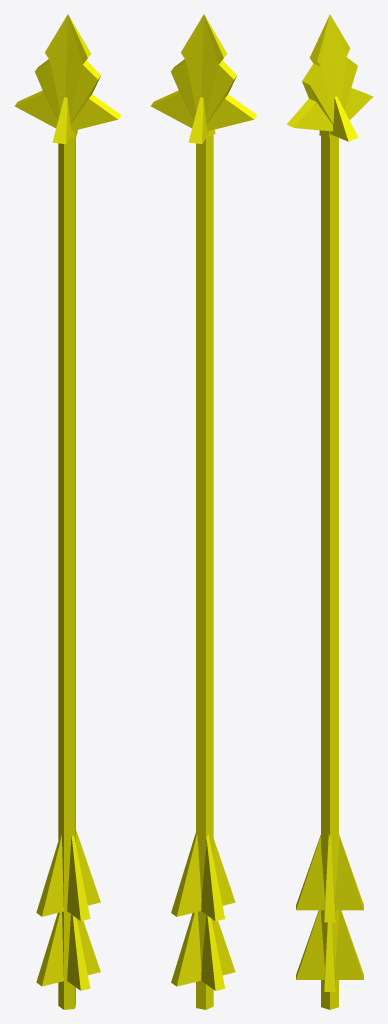
File: _arrow_b_24.glb
3 views of the same model, side by side, from view 1: azimuth 30°, elevation 25°; view 2: azimuth 210°, elevation 25°; view 3: azimuth 270°, elevation 25° (orthographic).
Visible parts, largest first — view 1: arrow_b_24; view 2: arrow_b_24; view 3: arrow_b_24.
Boxes of the visible parts, x1,y1,x2,y2 form: arrow_b_24: (14,14,121,1009); arrow_b_24: (150,14,257,1009); arrow_b_24: (286,14,373,1009).
Bounding box in the file's own units: 0.0458 × 0.6094 × 0.0485.
1 material, 1 textured.
